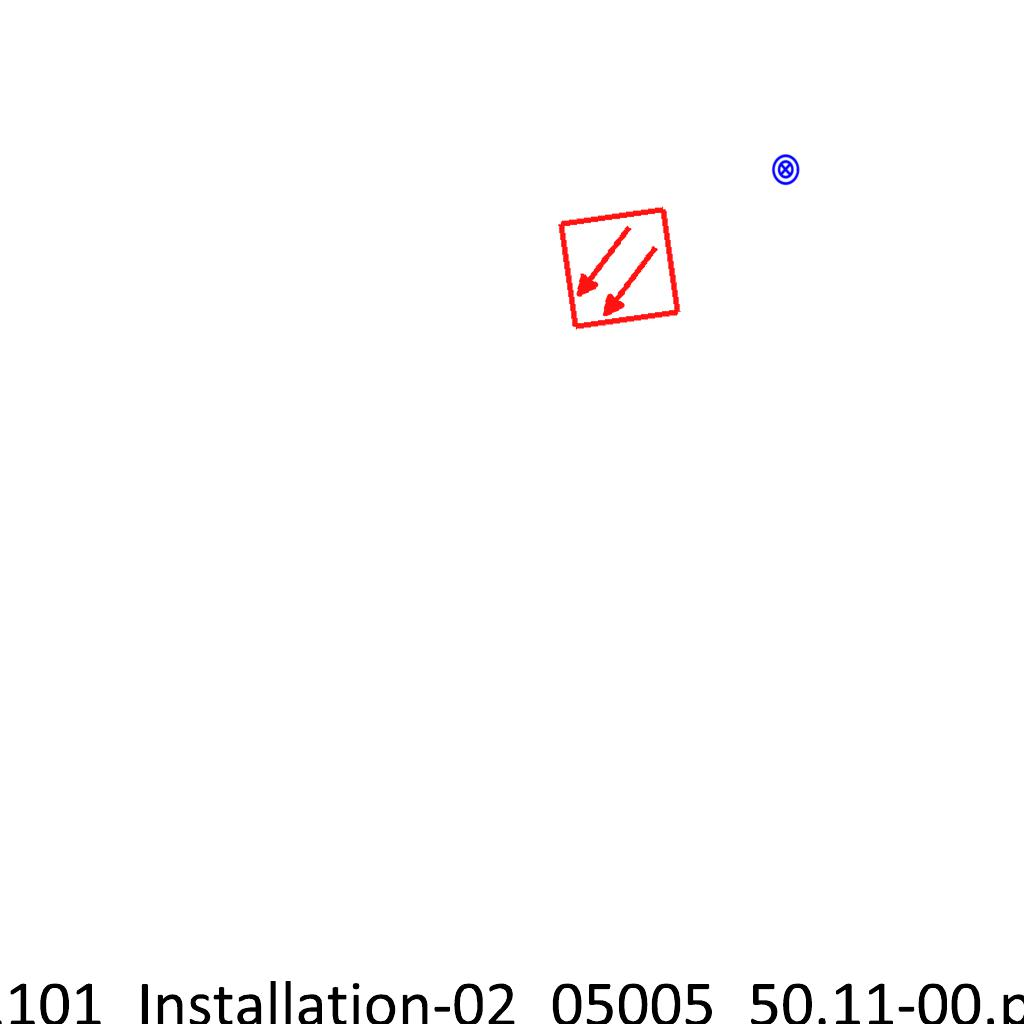RMO_Rauchmelder_optischer: (555, 204, 684, 333)
Taster_beleuchtet: (769, 153, 802, 186)
